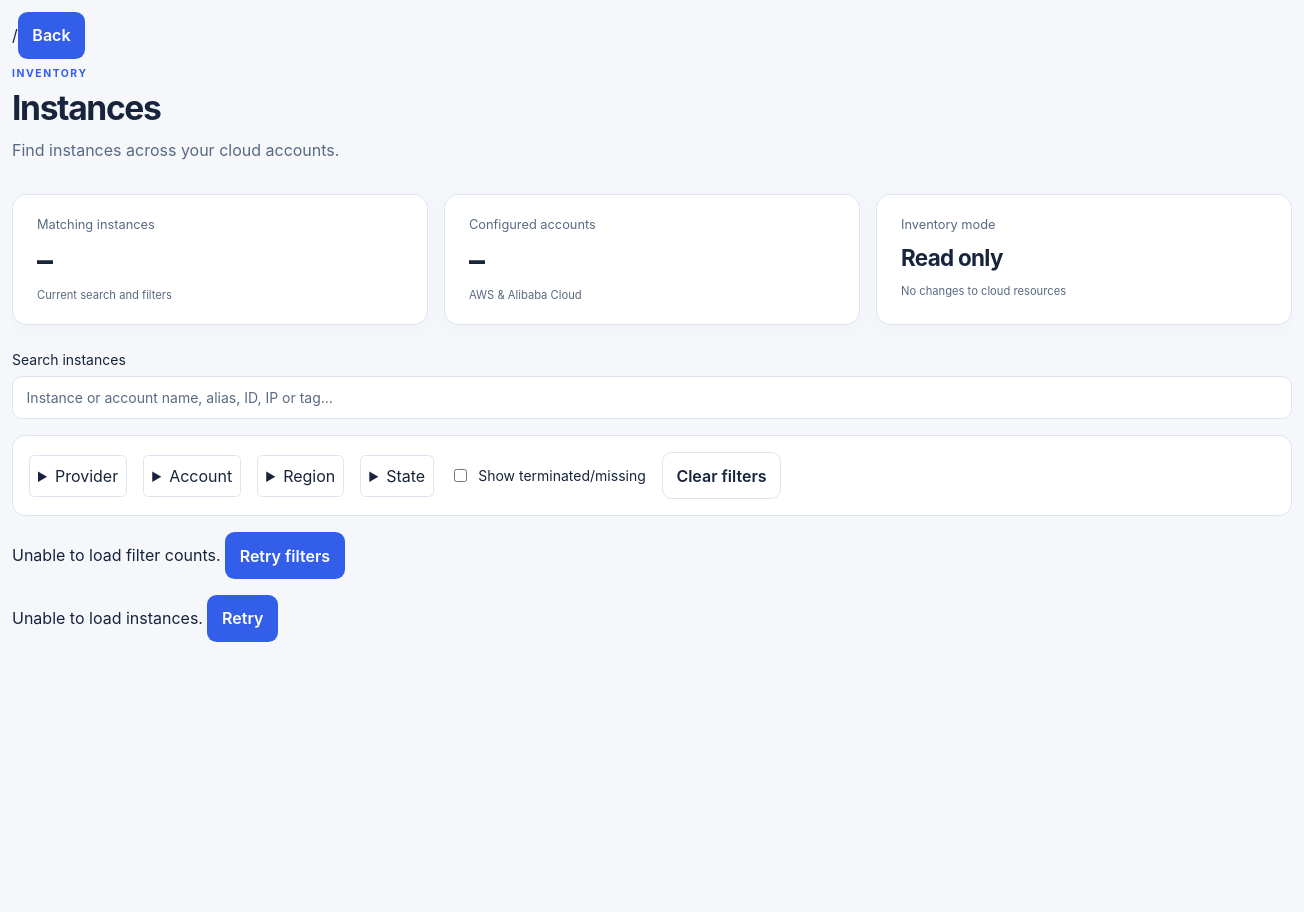
shows empty and retryable failure states
Click the button "Retry" at point(243, 618), box [208,595,278,642]
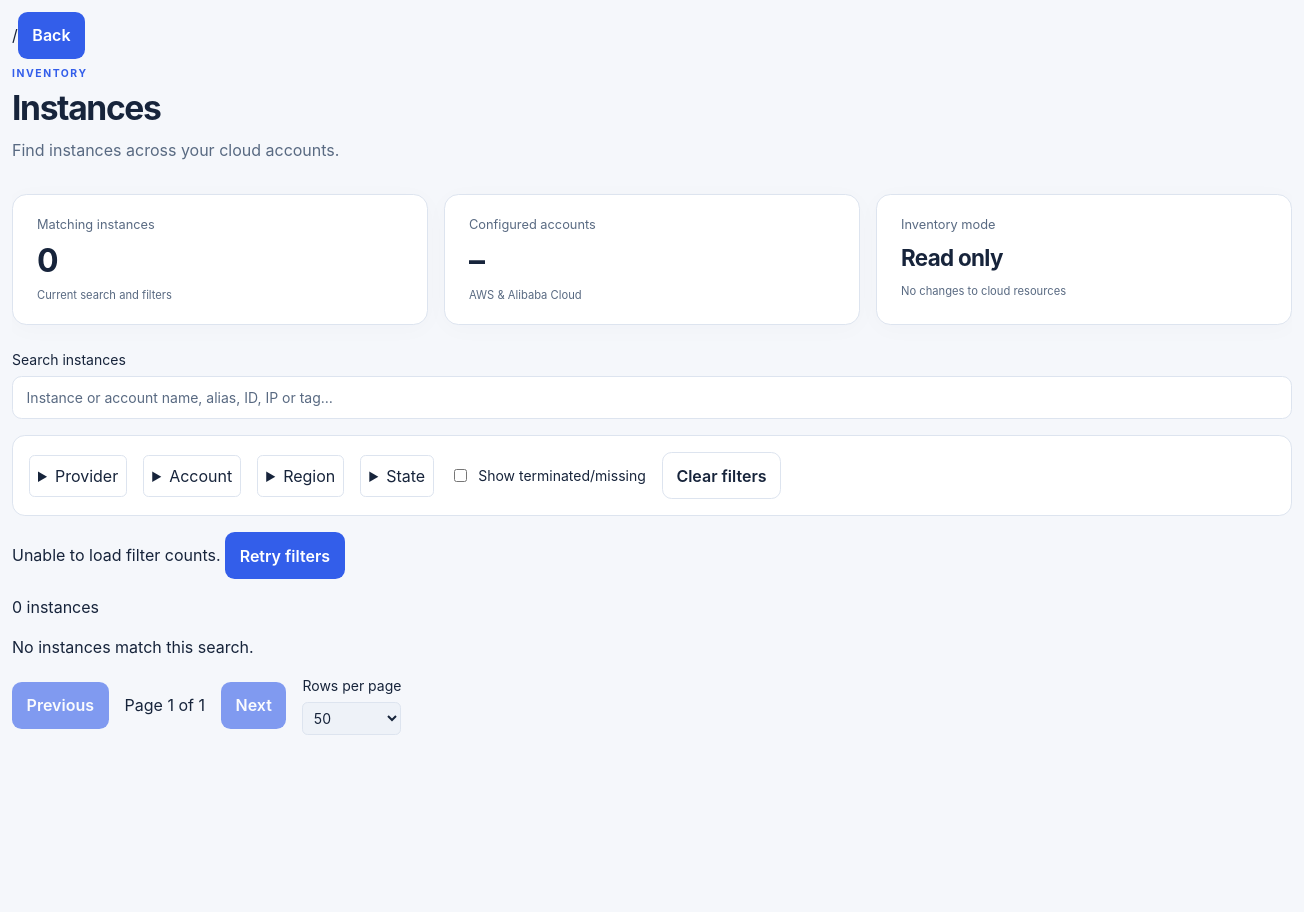
Now the text "No instances match this search." is shown, box [12,637,254,657]
